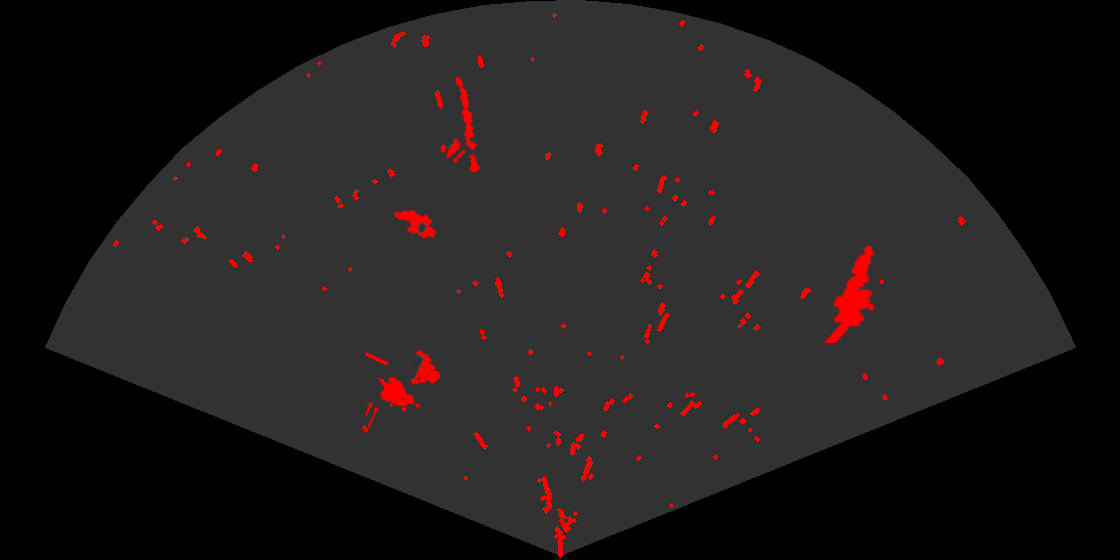AUV: (392, 208, 438, 240)
ball: (439, 137, 467, 165)
cage: (366, 348, 442, 434)
chain: (454, 75, 482, 175)
frogman: (822, 243, 876, 343)
